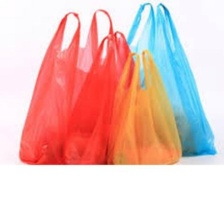plastic_bag: (13, 4, 118, 170), (123, 0, 221, 160), (65, 28, 141, 166), (108, 47, 186, 165)
